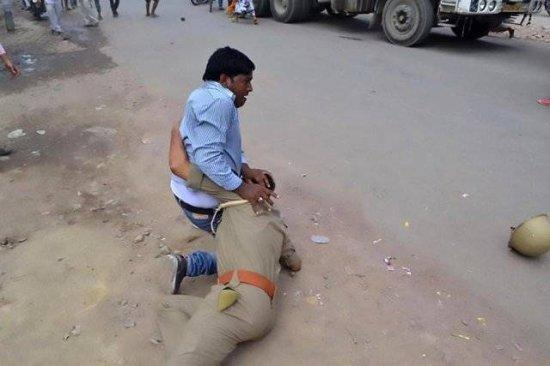Fall-Detected: (132, 165, 308, 358)
